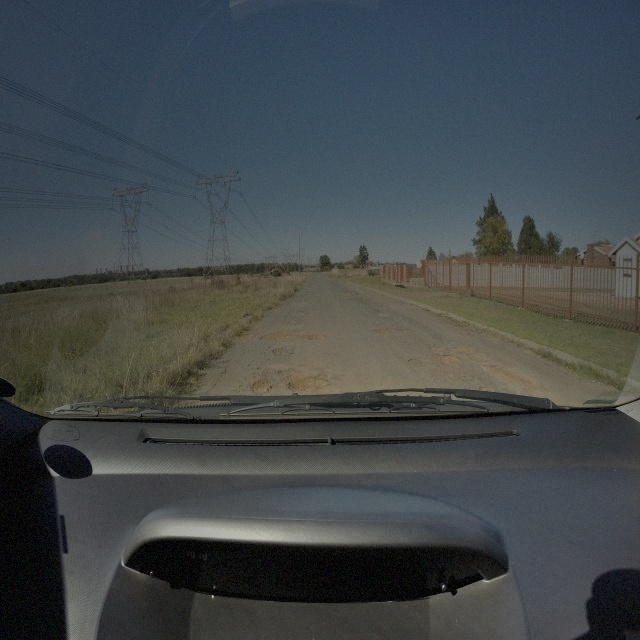pothole: (494, 367, 537, 392), (288, 378, 330, 392), (262, 330, 296, 344), (250, 378, 275, 394), (439, 358, 462, 371), (274, 349, 289, 359), (464, 354, 482, 362), (374, 326, 388, 335), (454, 344, 469, 352), (408, 359, 419, 369), (430, 346, 445, 352), (308, 335, 326, 340)
